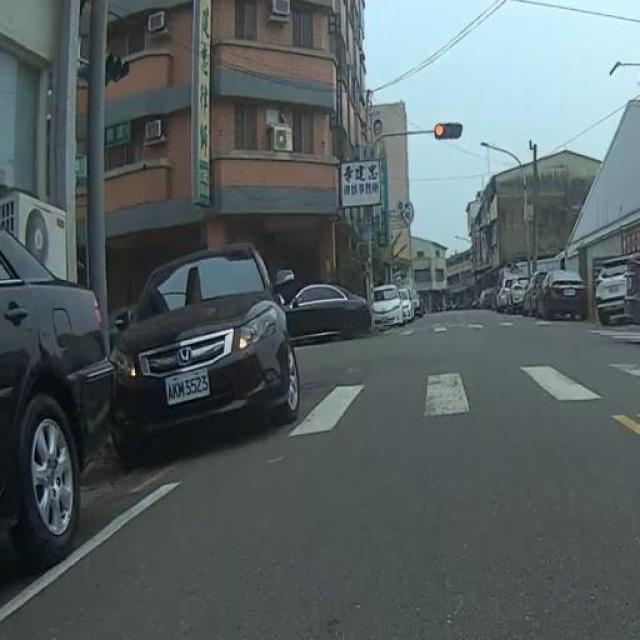illegalparking: (111, 245, 299, 464), (0, 230, 114, 568)
